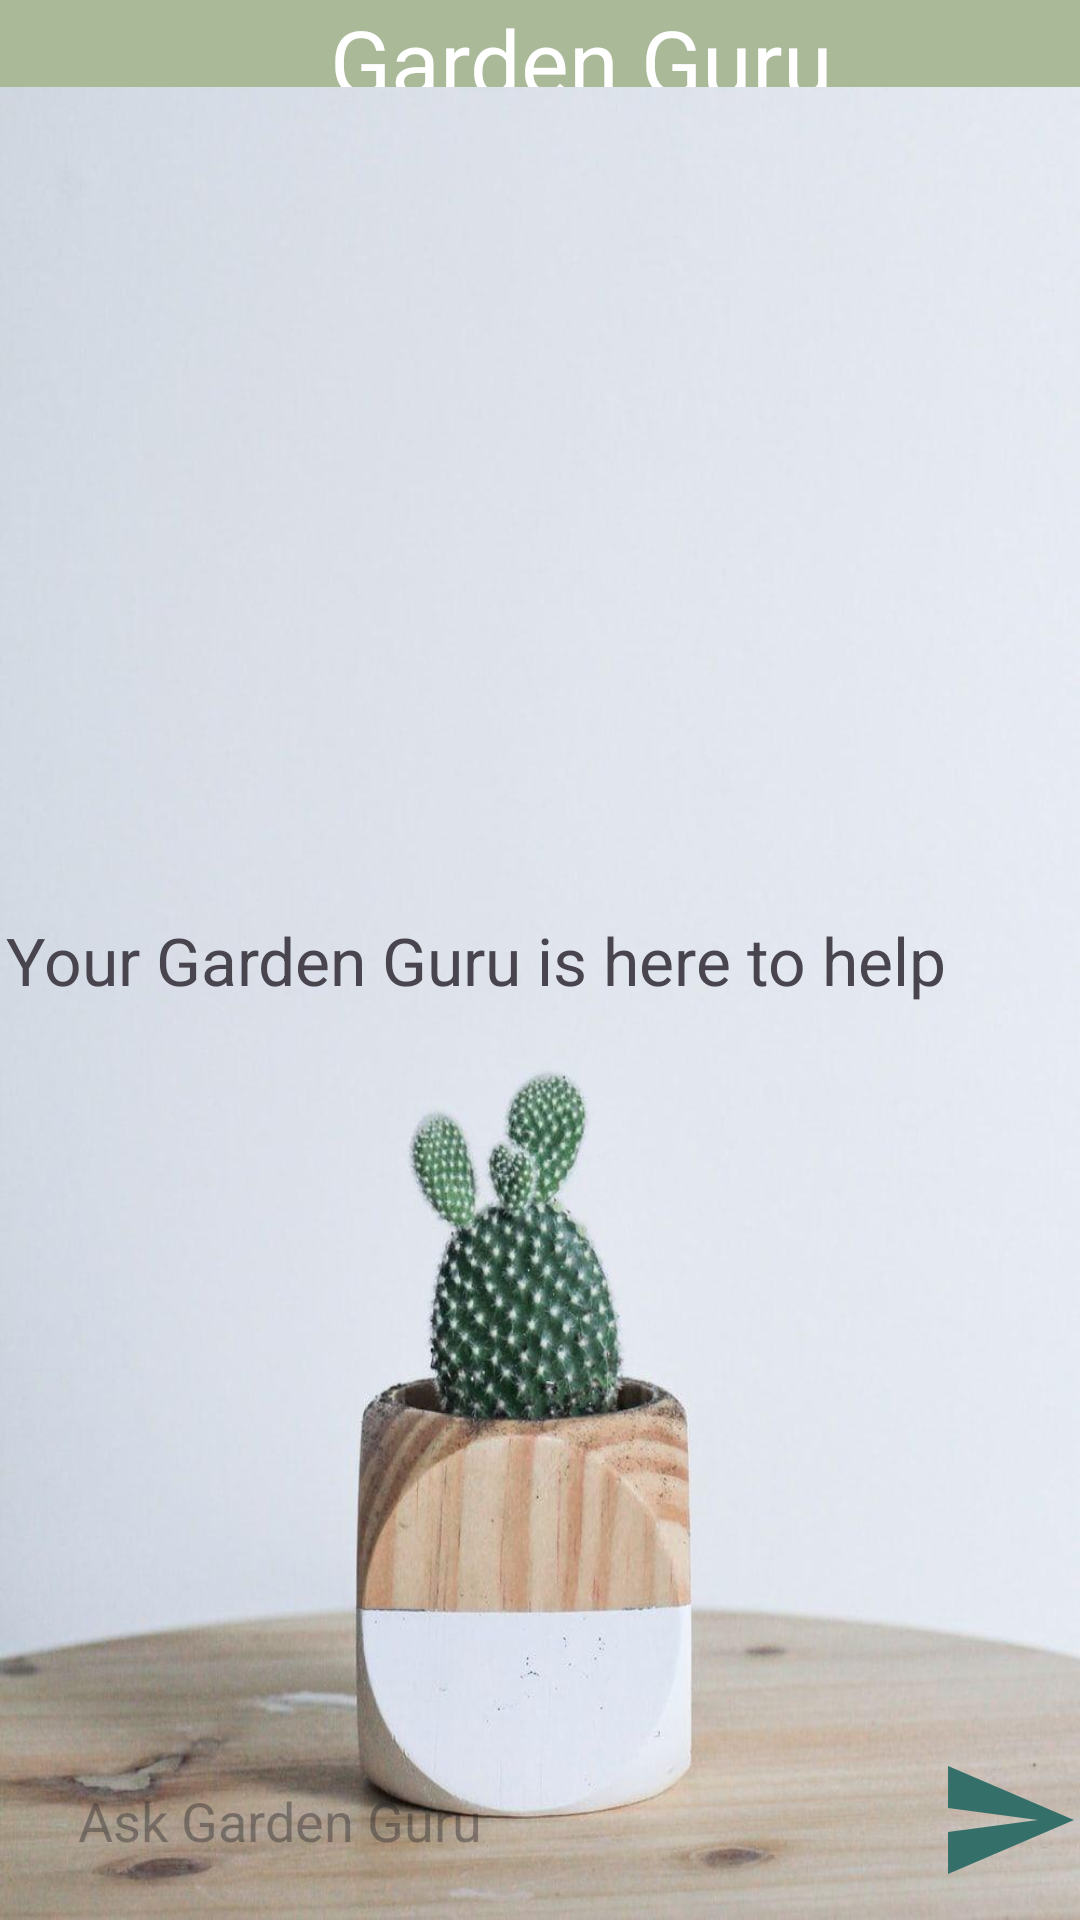

Locate icon controls on the screen. Image size 1080x1920, boxes as [x1, y1, x2, y2].
Send chat button to AI: [948, 1763, 1074, 1874]
